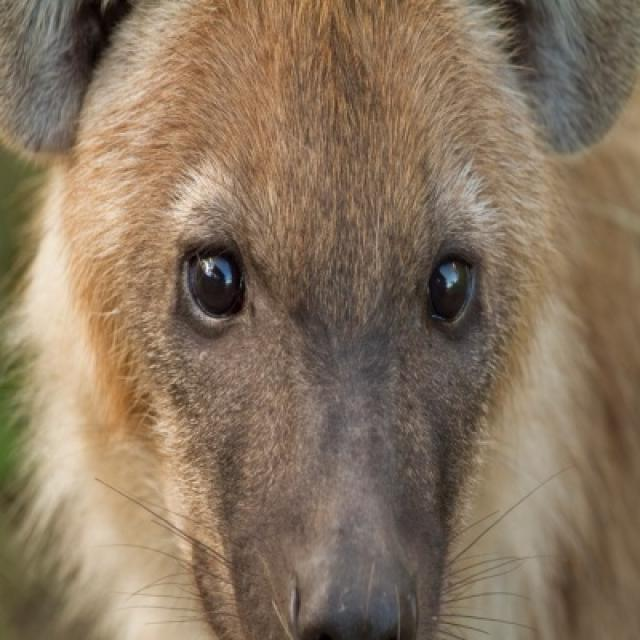hyena: (16, 0, 638, 638)
